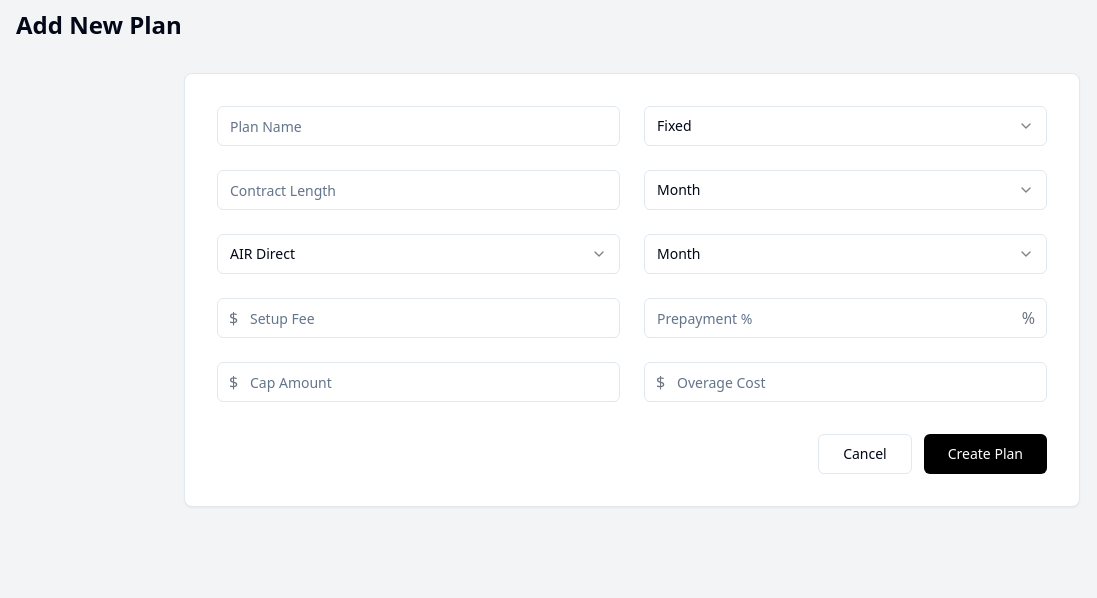
Test: SubscriptionNew › shows validation error when plan name is missing
What coordinates should you click on to do the following:
click the button "Create Plan"
I would click on:
 (985, 454)
Its box is 924,434 -> 1047,474.
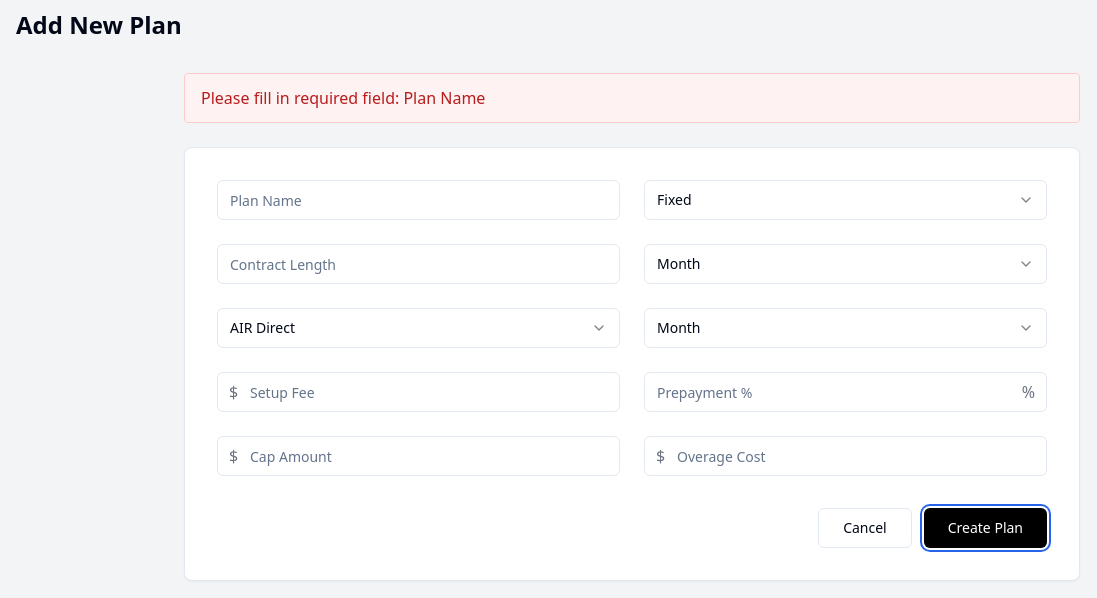
Result: the text "Please fill in required field: Plan Name" is shown at 184,73 -> 1080,123
